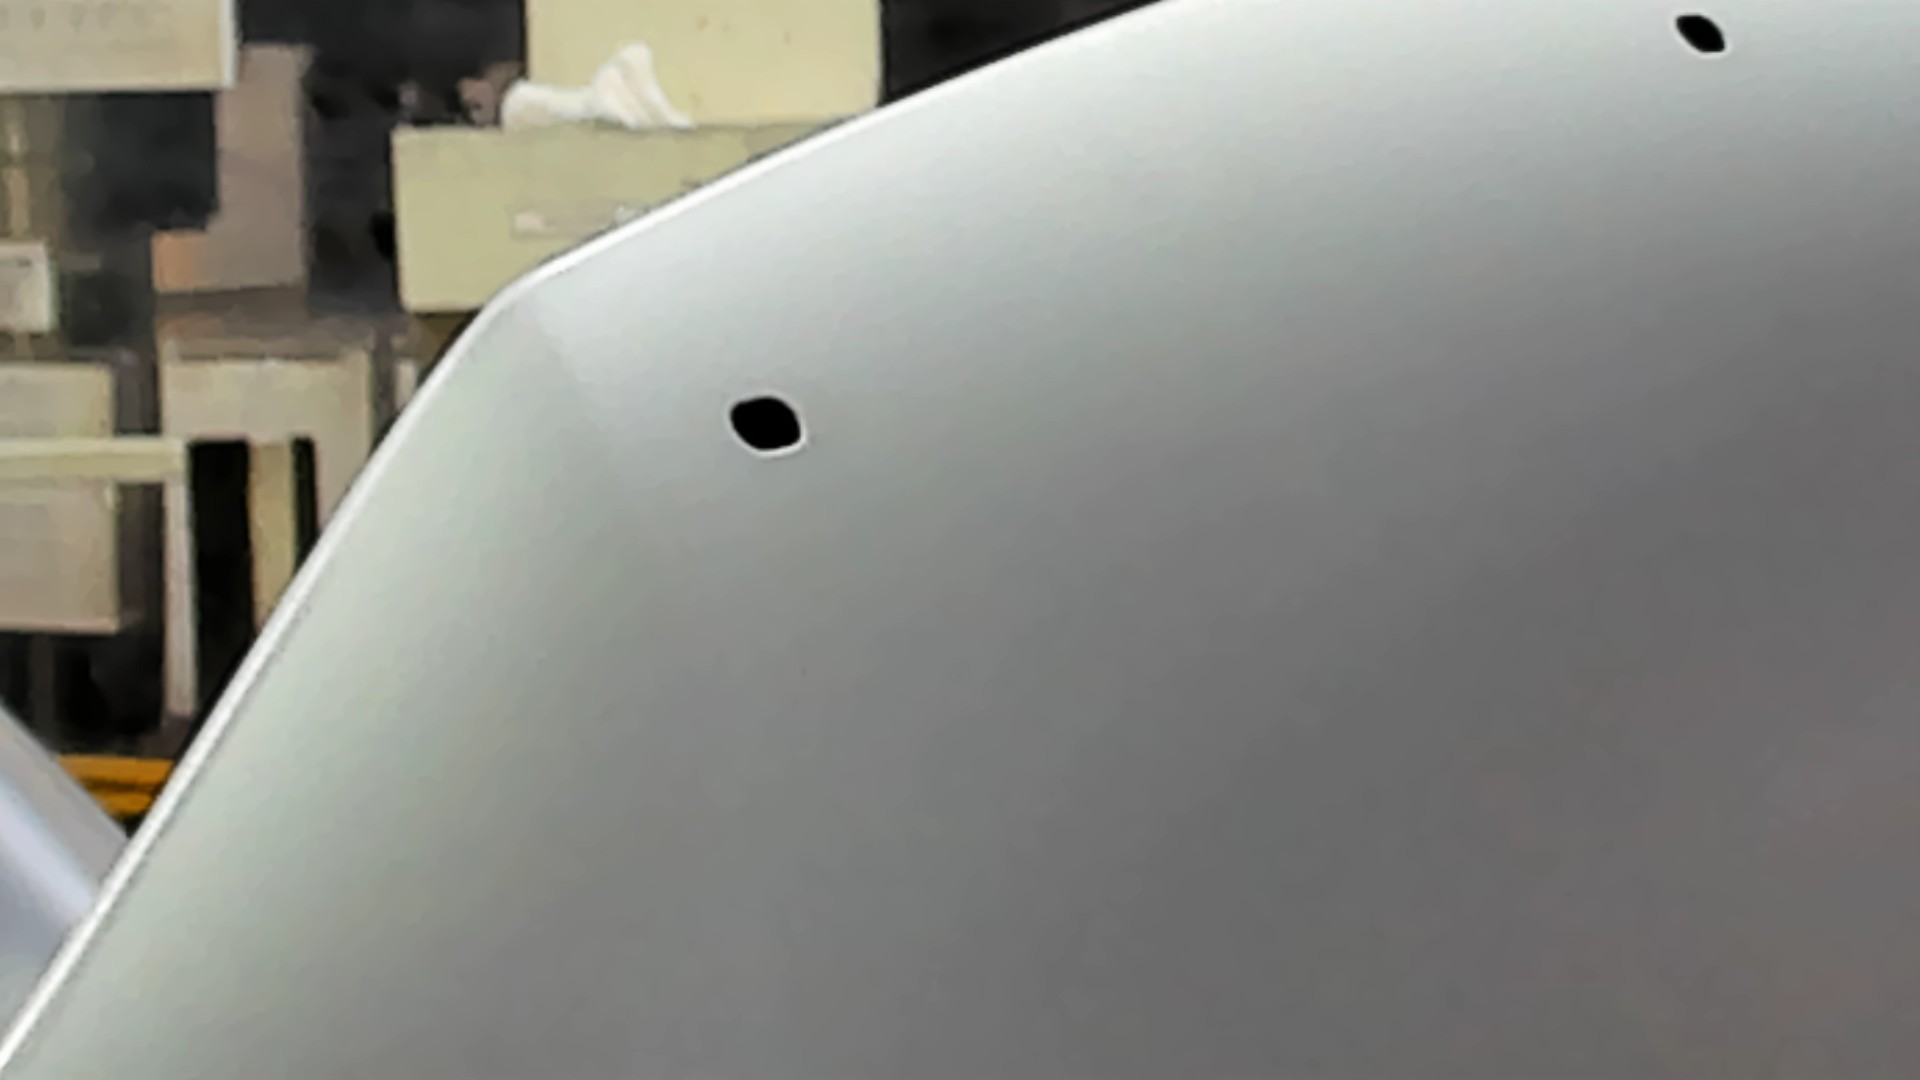amorfo: (721, 390, 810, 458), (1665, 8, 1735, 65)
